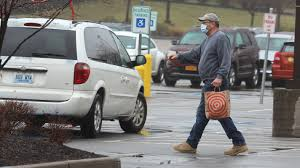mask: (198, 15, 217, 36)
